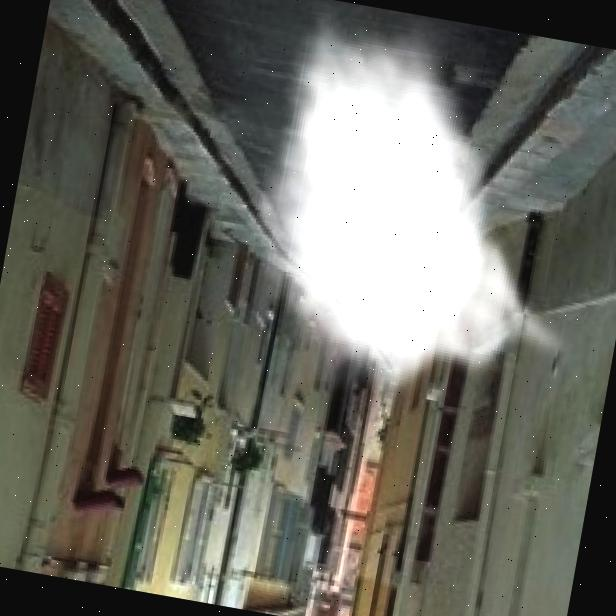smoke: (217, 0, 616, 437)
